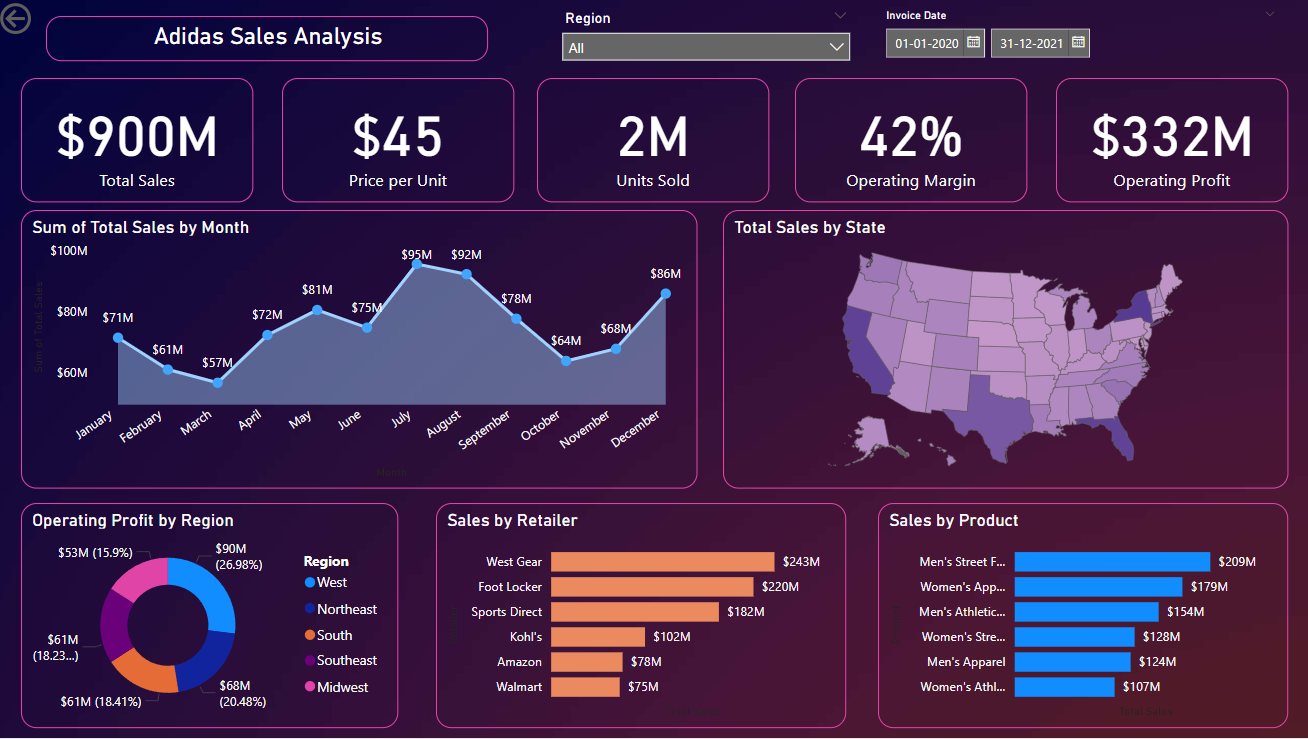

The page's visual inventory and layout, read from the dashboard file:
{"tool":"powerbi","page":{"name":"Page 1","canvas":[1280,720],"ordinal":0},"visuals":[{"type":"textbox","title":"Adidas Sales Analysis","box":[49.6,17.5,429.9,43.8],"z":0},{"type":"donutChart","title":"Operating Profit by Region","fields":{"Y":["Sum(Data Sales Adidas.Operating Profit)"],"Category":["Data Sales Adidas.Region","Data Sales Adidas.Product"]},"box":[25.3,491.2,366.7,218.8],"z":1000},{"type":"card","fields":{"Values":["Sum(Data Sales Adidas.Total Sales)"]},"box":[25.3,77.8,225.7,120.6],"z":2000},{"type":"actionButton","box":[0,0,100,40],"z":3000},{"type":"card","fields":{"Values":["Sum(Data Sales Adidas.Units Sold)"]},"box":[527.2,77.8,225.7,120.6],"z":4000},{"type":"card","fields":{"Values":["Avg(Data Sales Adidas.Price per Unit)"]},"box":[279.1,77.8,225.7,120.6],"z":5000},{"type":"card","fields":{"Values":["Avg(Data Sales Adidas.Operating Margin)"]},"box":[778.1,77.8,225.7,120.6],"z":6000},{"type":"card","fields":{"Values":["Sum(Data Sales Adidas.Operating Profit)"]},"box":[1032,77.8,225.7,120.6],"z":7000},{"type":"areaChart","fields":{"Y":["Sum(Data Sales Adidas.Total Sales)"],"Category":["Data Sales Adidas.Invoice Date.Variation.Date Hierarchy.Month"]},"box":[25.3,206.2,657.5,271.4],"z":8000},{"type":"shapeMap","title":"Total Sales by State","fields":{"Category":["Data Sales Adidas.State"],"Value":["Sum(Data Sales Adidas.Total Sales)"]},"box":[708.1,206.2,549.5,271.4],"z":9000},{"type":"barChart","title":"Sales by Product","fields":{"Y":["Sum(Data Sales Adidas.Total Sales)"],"Category":["Data Sales Adidas.Product"]},"box":[858.8,491.2,398.8,218.8],"z":10000},{"type":"barChart","title":"Sales by Retailer","fields":{"Y":["Sum(Data Sales Adidas.Total Sales)"],"Category":["Data Sales Adidas.Retailer"]},"box":[428.9,491.2,398.8,218.8],"z":11000},{"type":"slicer","fields":{"Values":["Data Sales Adidas.Region"]},"box":[541.8,5.8,299.6,67.1],"z":12000},{"type":"slicer","fields":{"Values":["Data Sales Adidas.Invoice Date"]},"box":[854,5.8,403.6,67.1],"z":13000}]}

Visuals, with their boxes in screenshot pixels (x1, y1, x2, y2), scaled from the page's 1280x720 canvas onto the 1308x739 screenshot:
"Adidas Sales Analysis" textbox: BBox(51, 18, 490, 63)
"Operating Profit by Region" donutChart: BBox(26, 504, 401, 729)
card - Sum(Data Sales Adidas.Total Sales): BBox(26, 80, 256, 204)
actionButton: BBox(0, 0, 102, 41)
card - Sum(Data Sales Adidas.Units Sold): BBox(539, 80, 769, 204)
card - Avg(Data Sales Adidas.Price per Unit): BBox(285, 80, 516, 204)
card - Avg(Data Sales Adidas.Operating Margin): BBox(795, 80, 1026, 204)
card - Sum(Data Sales Adidas.Operating Profit): BBox(1055, 80, 1285, 204)
areaChart - Sum(Data Sales Adidas.Total Sales) x Data Sales Adidas.Invoice Date.Variation.Date Hierarchy.Month: BBox(26, 212, 698, 490)
"Total Sales by State" shapeMap: BBox(724, 212, 1285, 490)
"Sales by Product" barChart: BBox(878, 504, 1285, 729)
"Sales by Retailer" barChart: BBox(438, 504, 846, 729)
slicer - Data Sales Adidas.Region: BBox(554, 6, 860, 75)
slicer - Data Sales Adidas.Invoice Date: BBox(873, 6, 1285, 75)
